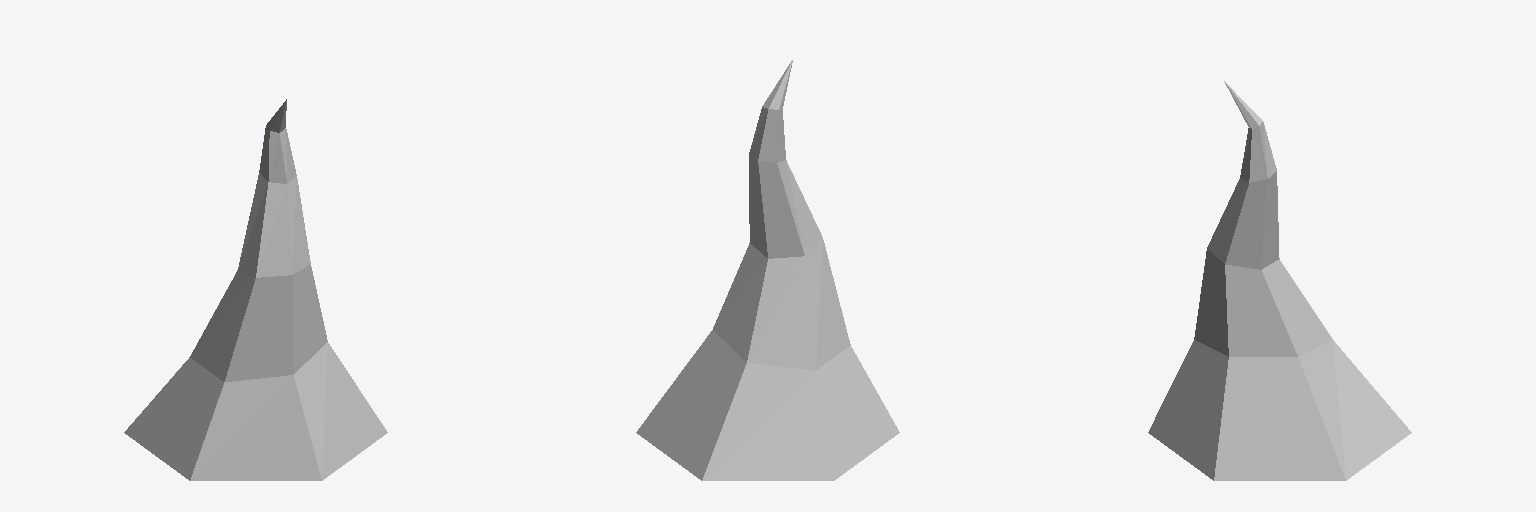
The model's file is swampsorrowroot03.obj.
3 renders of one model, left to right at view 1: azimuth 30°, elevation 25°; view 2: azimuth 150°, elevation 25°; view 3: azimuth 270°, elevation 25°, orthographic.
Visible parts, largest first — view 1: SwampSorrowRoot03; view 2: SwampSorrowRoot03; view 3: SwampSorrowRoot03.
Boxes of the visible parts, x1,y1,x2,y2 form: SwampSorrowRoot03: [124, 99, 387, 480]; SwampSorrowRoot03: [636, 60, 899, 480]; SwampSorrowRoot03: [1148, 81, 1411, 480].
Bounding box in the file's own units: 2.59 × 4.41 × 2.99.